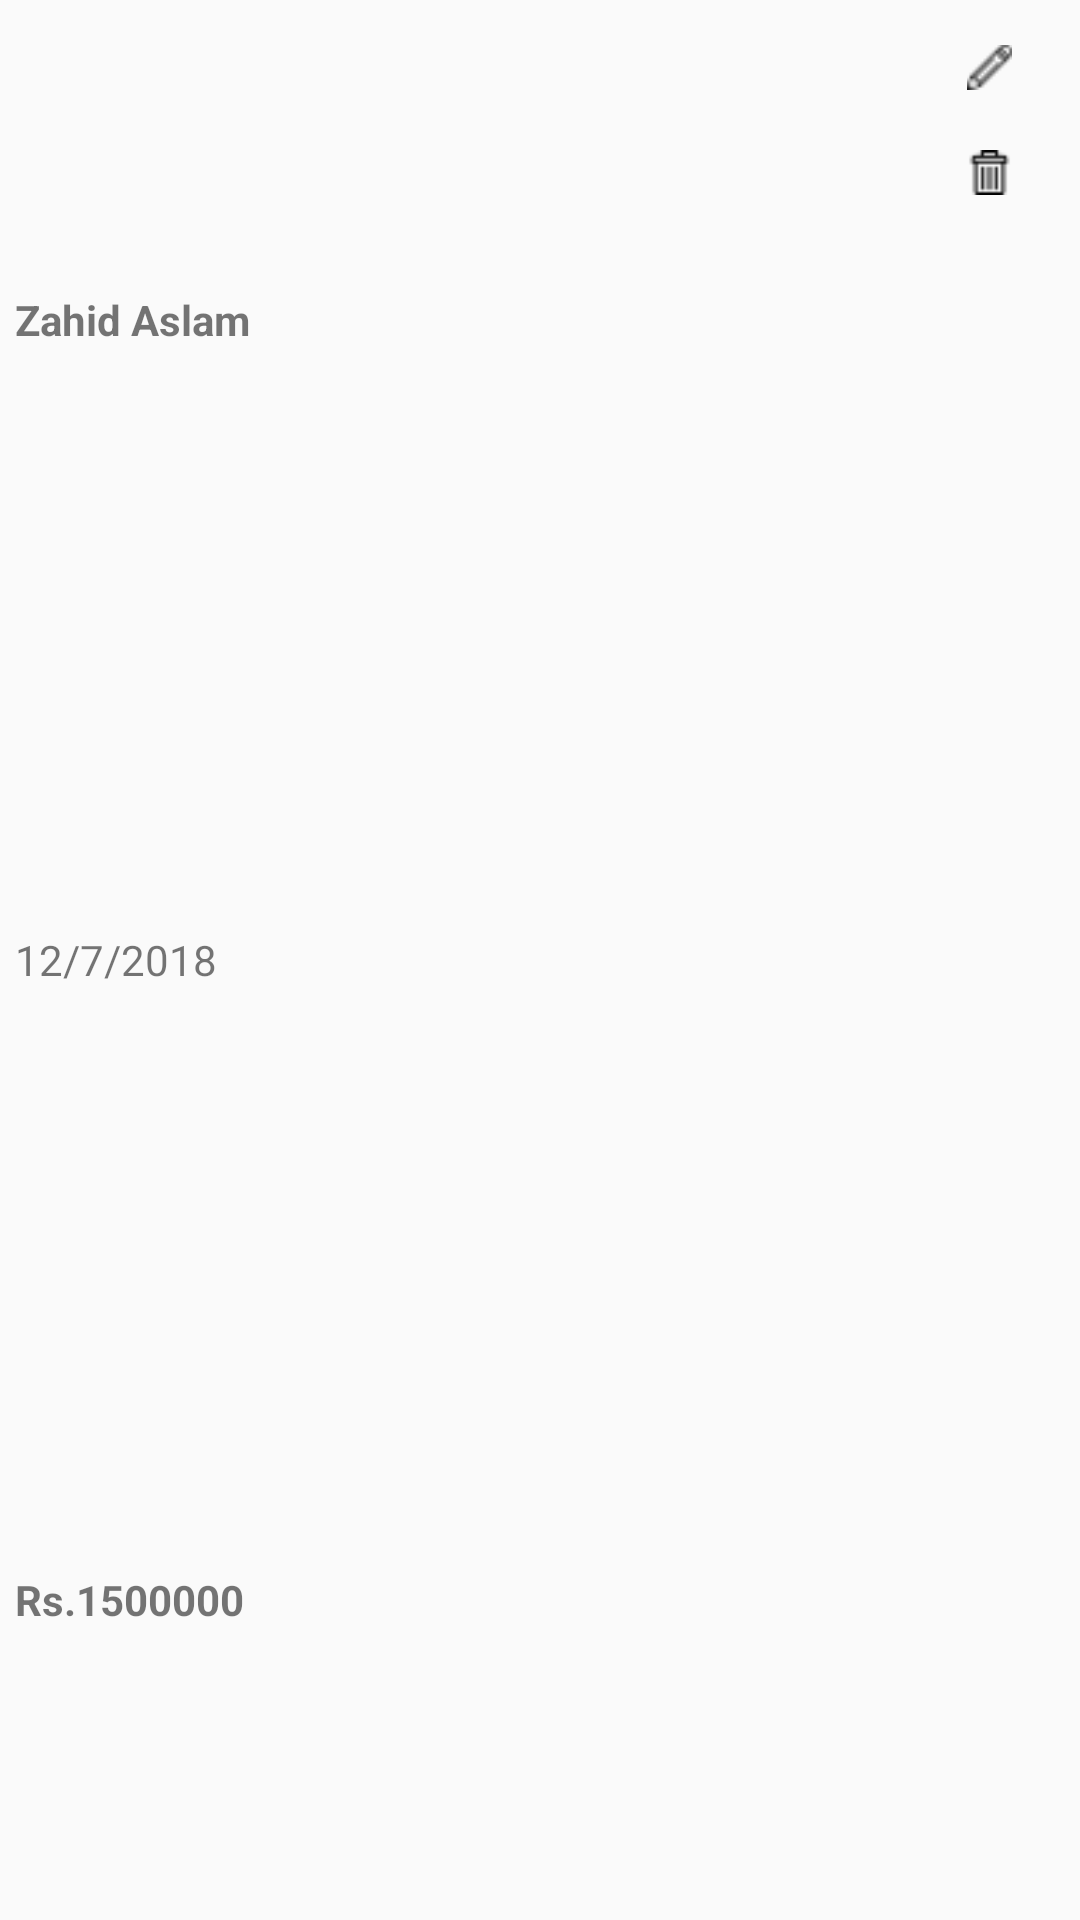

Where icons sit on this 1080×1920 app screen, as bbox(x1, y1, x2, y2):
clear: bbox(969, 150, 1010, 195)
pencil: bbox(967, 45, 1012, 90)
